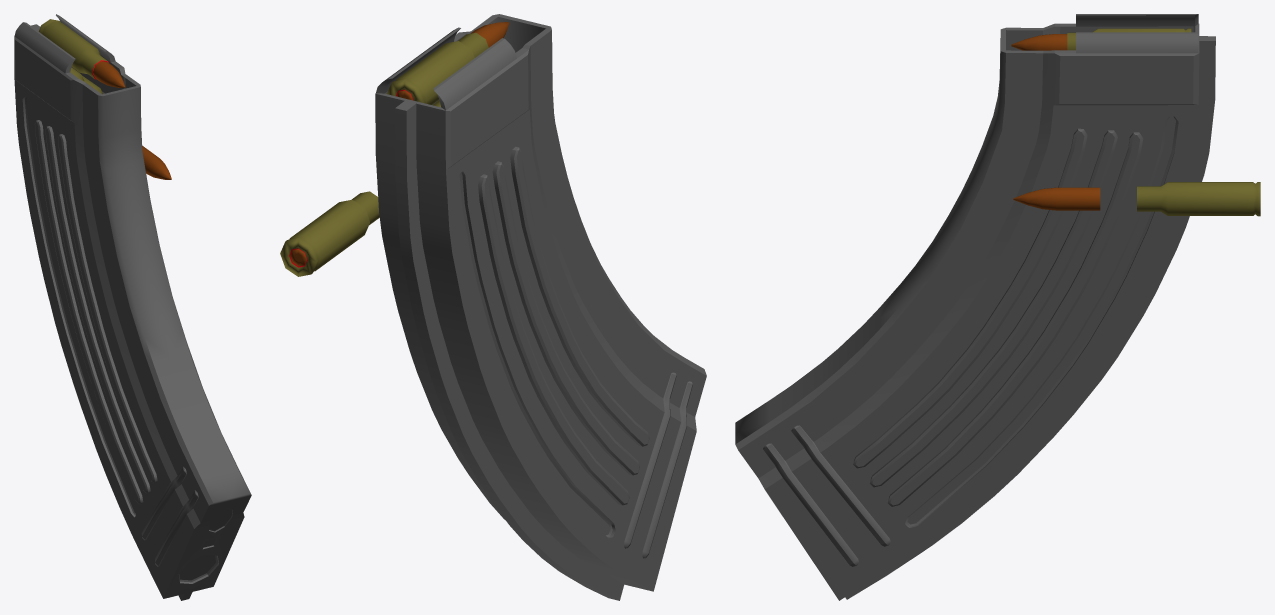
File: AKM_mag.fbx
3 views of the same model, side by side, from view 1: azimuth 30°, elevation 25°; view 2: azimuth 150°, elevation 25°; view 3: azimuth 270°, elevation 25° (orthographic). The views are drawn at different scales.
Parts seen in each view (by area): view 1: Magazine, round, bullet; view 2: Magazine, shell, round; view 3: Magazine, shell, bullet, round.
Part boxes in pixels (<box>): Magazine: <box>14,14,251,600</box>; round: <box>39,19,125,87</box>; bullet: <box>142,146,171,179</box>; Magazine: <box>375,14,706,600</box>; shell: <box>280,191,379,276</box>; round: <box>387,22,509,104</box>; Magazine: <box>735,14,1215,600</box>; shell: <box>1137,182,1260,216</box>; bullet: <box>1013,187,1100,210</box>; round: <box>1011,28,1191,50</box>.
Bounding box in the file's own units: 4.19 × 19.68 × 16.34.
